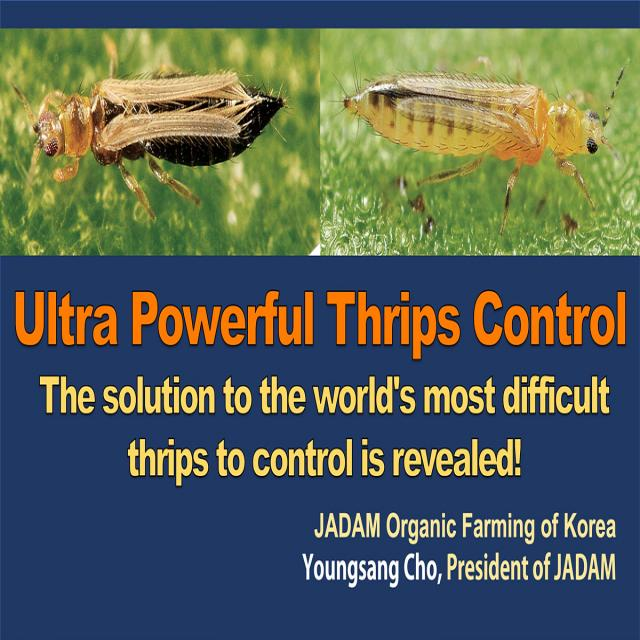Thrip-Adult-: (336, 56, 630, 218), (34, 44, 293, 202)
